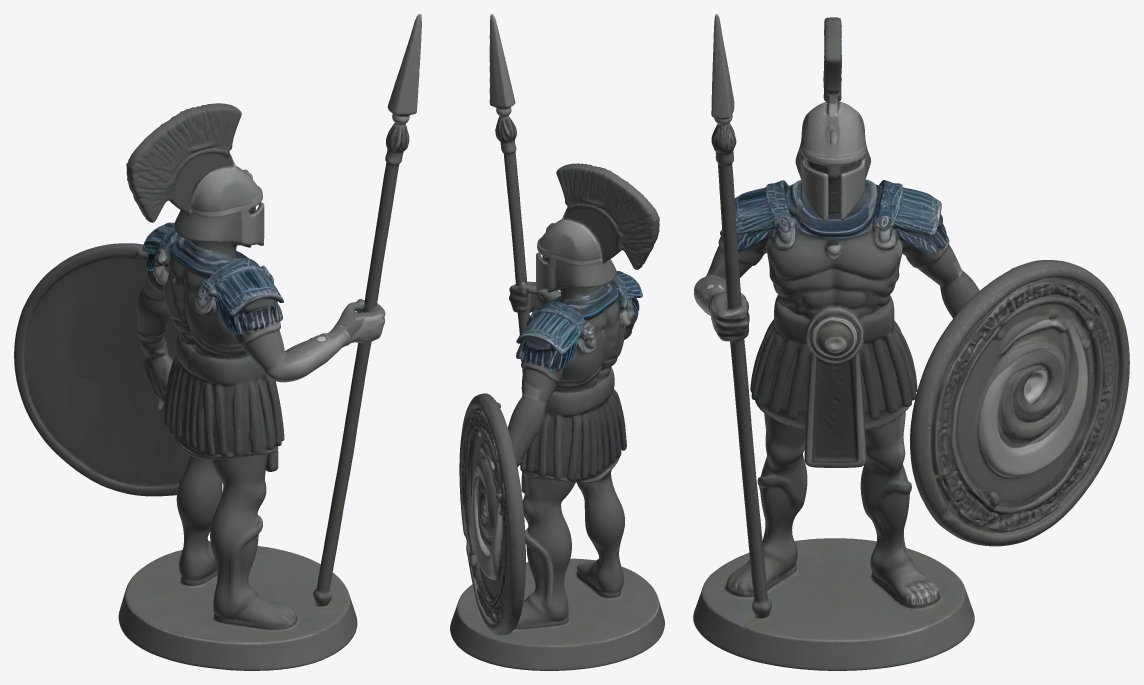
3 renders of one model, left to right at view 1: azimuth 30°, elevation 25°; view 2: azimuth 150°, elevation 25°; view 3: azimuth 270°, elevation 25°, orthographic. The views are drawn at different scales.
Parts seen in each view (by area): view 1: tripo_node_0ed97226-3b53-4dc1-b2d1-0d107952ec0b; view 2: tripo_node_0ed97226-3b53-4dc1-b2d1-0d107952ec0b; view 3: tripo_node_0ed97226-3b53-4dc1-b2d1-0d107952ec0b.
Part boxes in pixels (box(x1,y1,x2,y2)): tripo_node_0ed97226-3b53-4dc1-b2d1-0d107952ec0b: box(14, 14, 421, 670); tripo_node_0ed97226-3b53-4dc1-b2d1-0d107952ec0b: box(450, 14, 664, 670); tripo_node_0ed97226-3b53-4dc1-b2d1-0d107952ec0b: box(693, 14, 1129, 670).
Bounding box in the file's own units: 0.4091 × 1 × 0.5884.
Materials: 1 (1 with a texture image).
